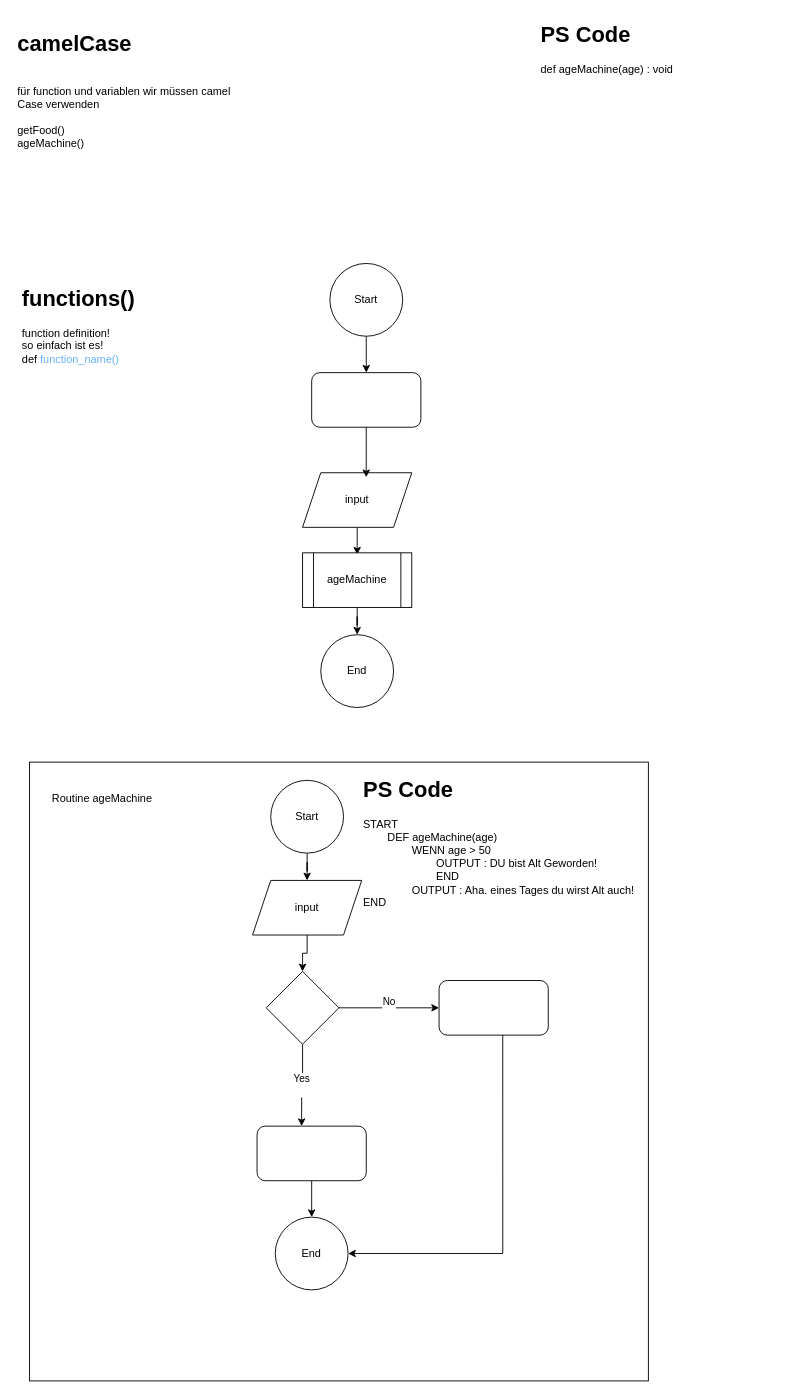
Image size: 809x1397. Some labels were removed from this diagram. Here are the shapes that lost their labels. From the top down, the box of each, then its label:
(311, 372, 421, 427): print: wie Alt bist DU!
(265, 971, 339, 1044): over 50
(438, 980, 548, 1035): Aha. eines Tages du wirst Alt auch!
(256, 1125, 366, 1181): Du bist alt geworden
